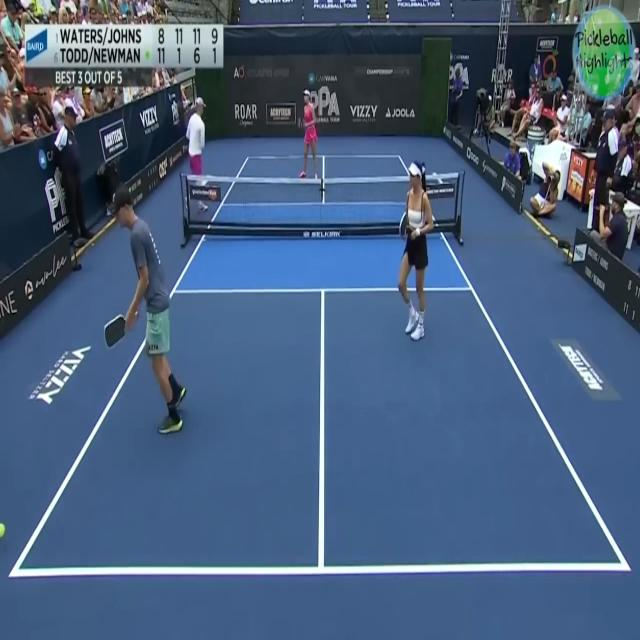Pickleball: (0, 517, 6, 545)
